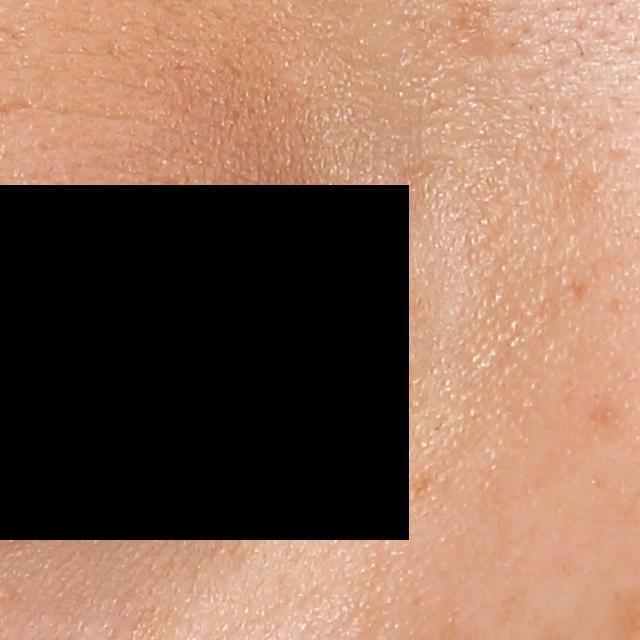melasma: (405, 473, 433, 500)
